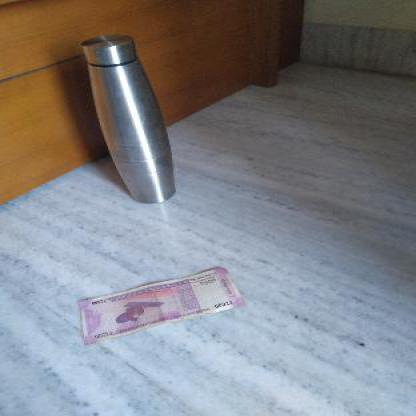New2000Back: (77, 267, 240, 343)
